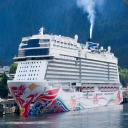cruises: (7, 27, 125, 119)
